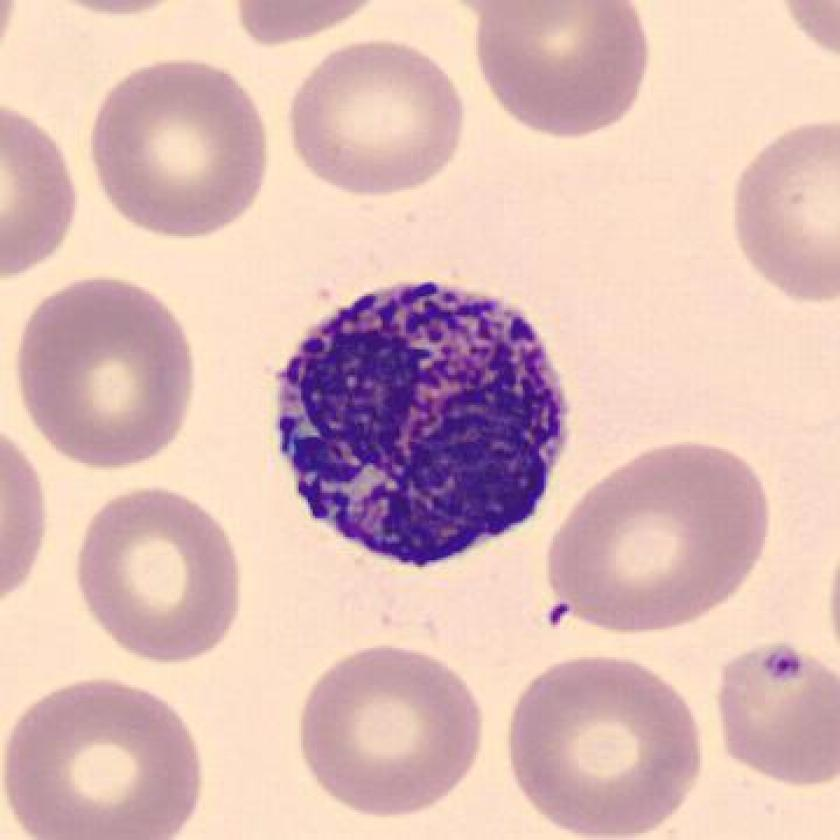basophil: (267, 267, 573, 575)
